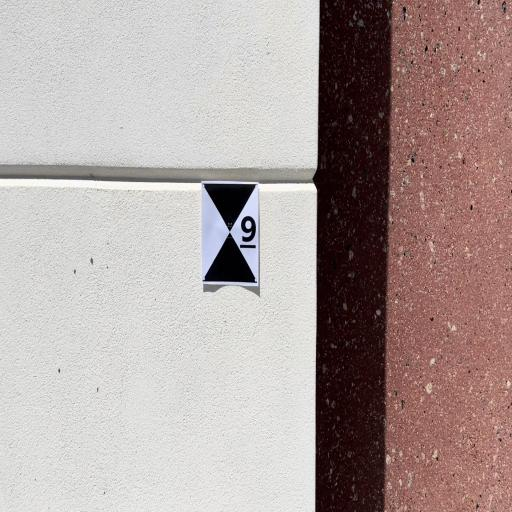target9: (200, 181, 258, 286)
